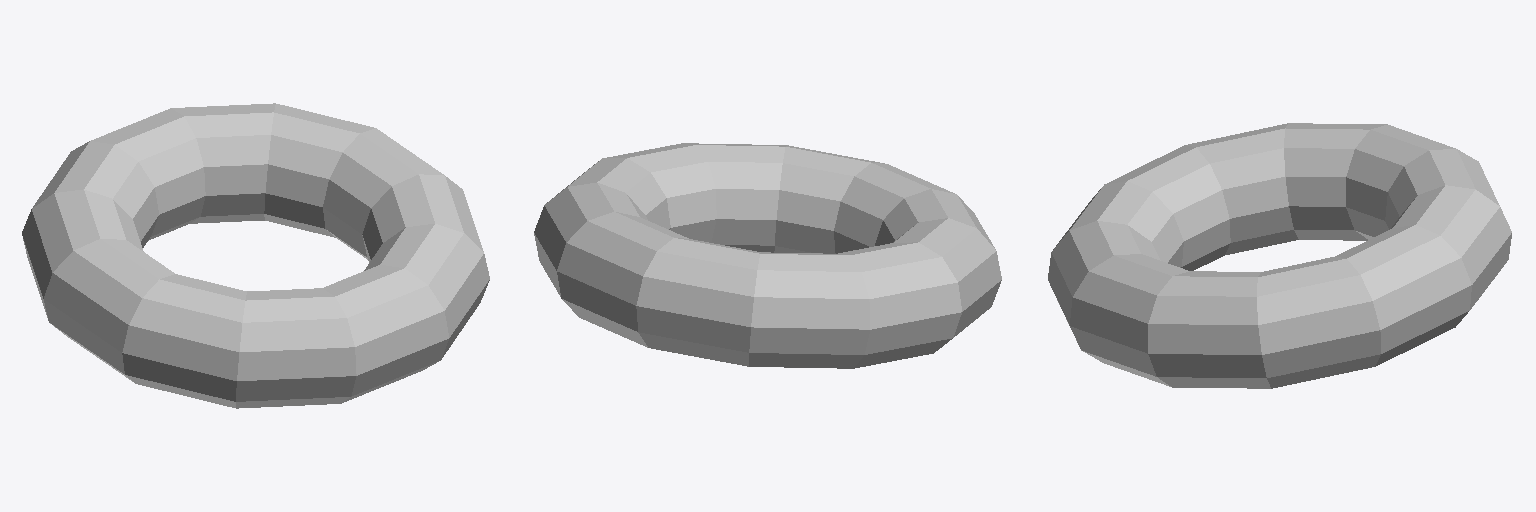
File: circleFloaty.obj
The picture shows the model from 3 angles: view 1: azimuth 30°, elevation 25°; view 2: azimuth 150°, elevation 25°; view 3: azimuth 270°, elevation 25°; orthographic projection.
Parts seen in each view (by area): view 1: group[number redacted]; view 2: group[number redacted]; view 3: group[number redacted].
Boxes of the visible parts, <box> form: group[number redacted]: <box>22,103,489,408</box>; group[number redacted]: <box>534,143,1001,368</box>; group[number redacted]: <box>1048,123,1511,388</box>.
Size of the model in its own units: 0.2692 by 0.0964 by 0.2663.